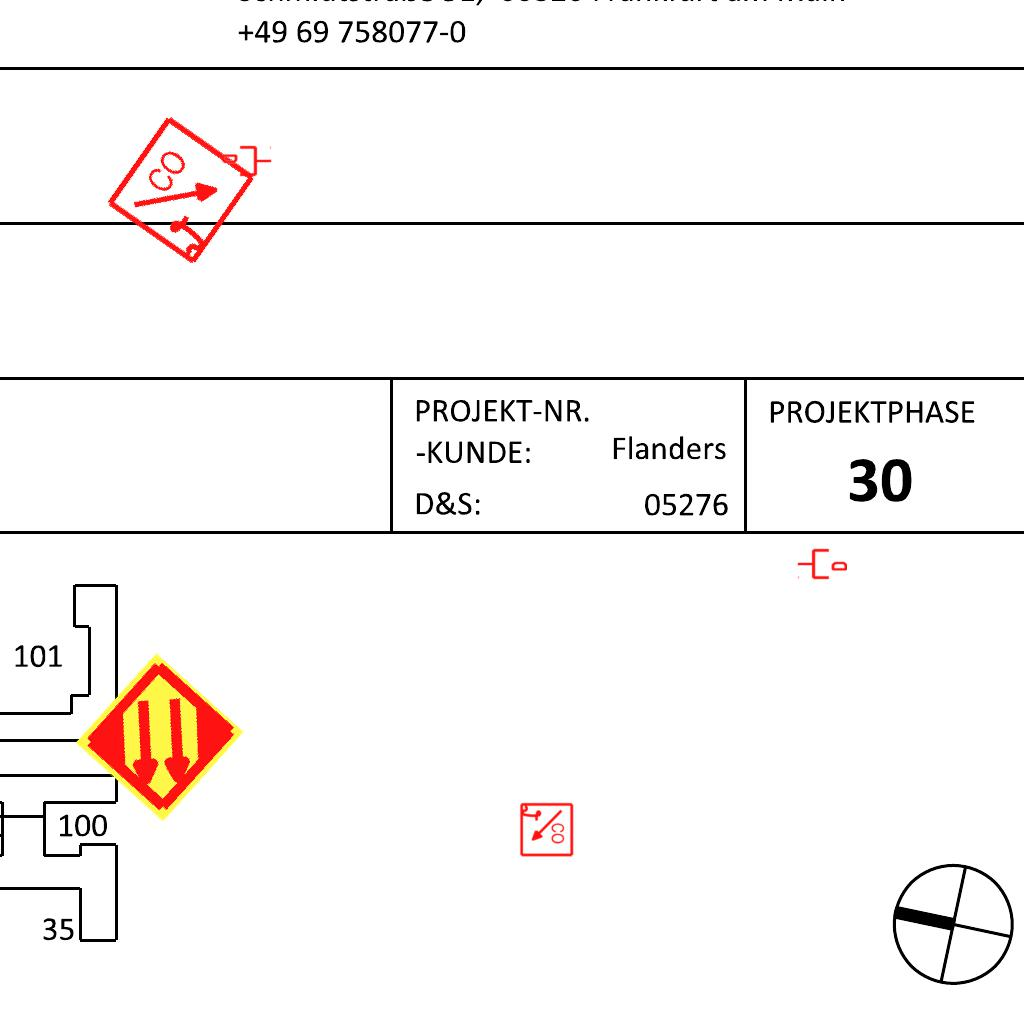ASR_Ansaugrauchmelder: (71, 649, 248, 826)
Datenanschluss_einfach: (797, 547, 847, 581), (222, 144, 272, 178)
ROA_Rauchmelder_optisch_mit_Signalgeber_(Sockelsirene): (103, 111, 262, 270), (518, 802, 574, 858)
